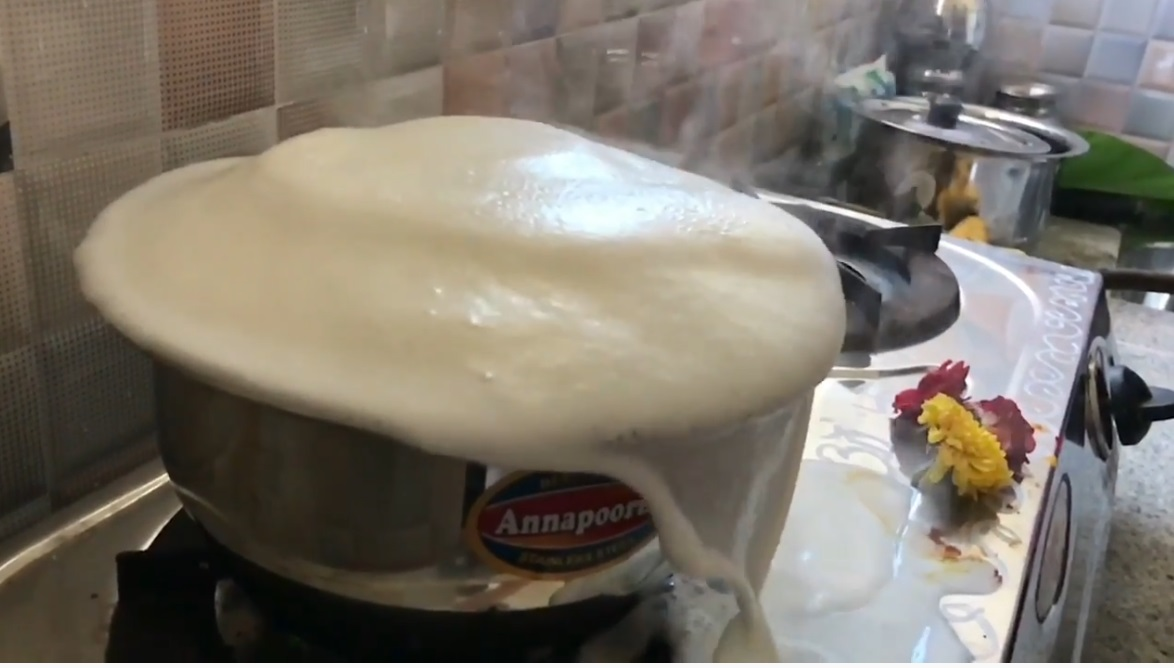Boiled: (51, 111, 826, 621)
